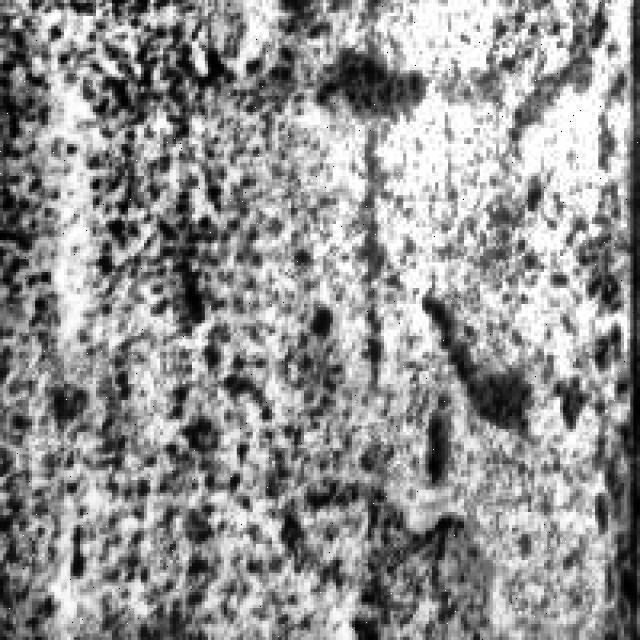Rolled_in_Scale: (38, 42, 509, 618)
